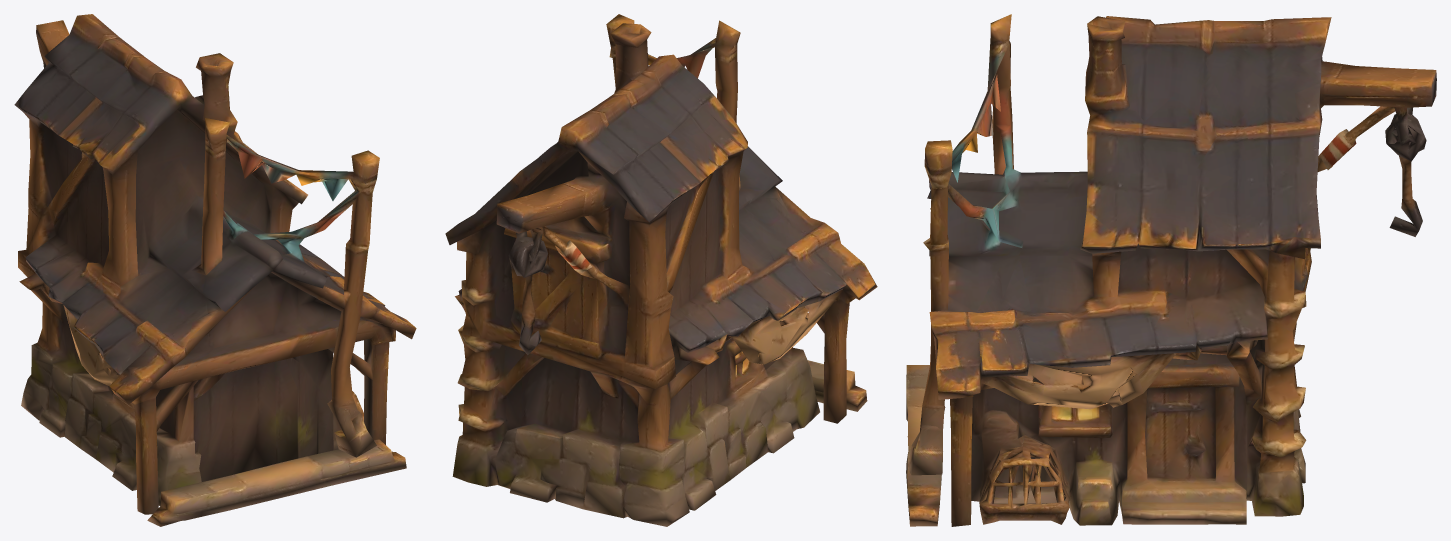
File: model-prop-net-loft-01.glb
3 views of the same model, side by side, from view 1: azimuth 30°, elevation 25°; view 2: azimuth 150°, elevation 25°; view 3: azimuth 270°, elevation 25° (orthographic). The views are drawn at different scales.
Visible parts, largest first — view 1: tripo_node_2fa3c274-e18e-414a-b15a-388b13b77d42; view 2: tripo_node_2fa3c274-e18e-414a-b15a-388b13b77d42; view 3: tripo_node_2fa3c274-e18e-414a-b15a-388b13b77d42.
Part boxes in pixels (x1,y1,x2,y2): tripo_node_2fa3c274-e18e-414a-b15a-388b13b77d42: [14, 14, 416, 526]; tripo_node_2fa3c274-e18e-414a-b15a-388b13b77d42: [445, 14, 877, 526]; tripo_node_2fa3c274-e18e-414a-b15a-388b13b77d42: [906, 14, 1436, 526].
Size of the model in its own units: 3.25 by 4 by 4.34.
Materials: 1 (1 with a texture image).
